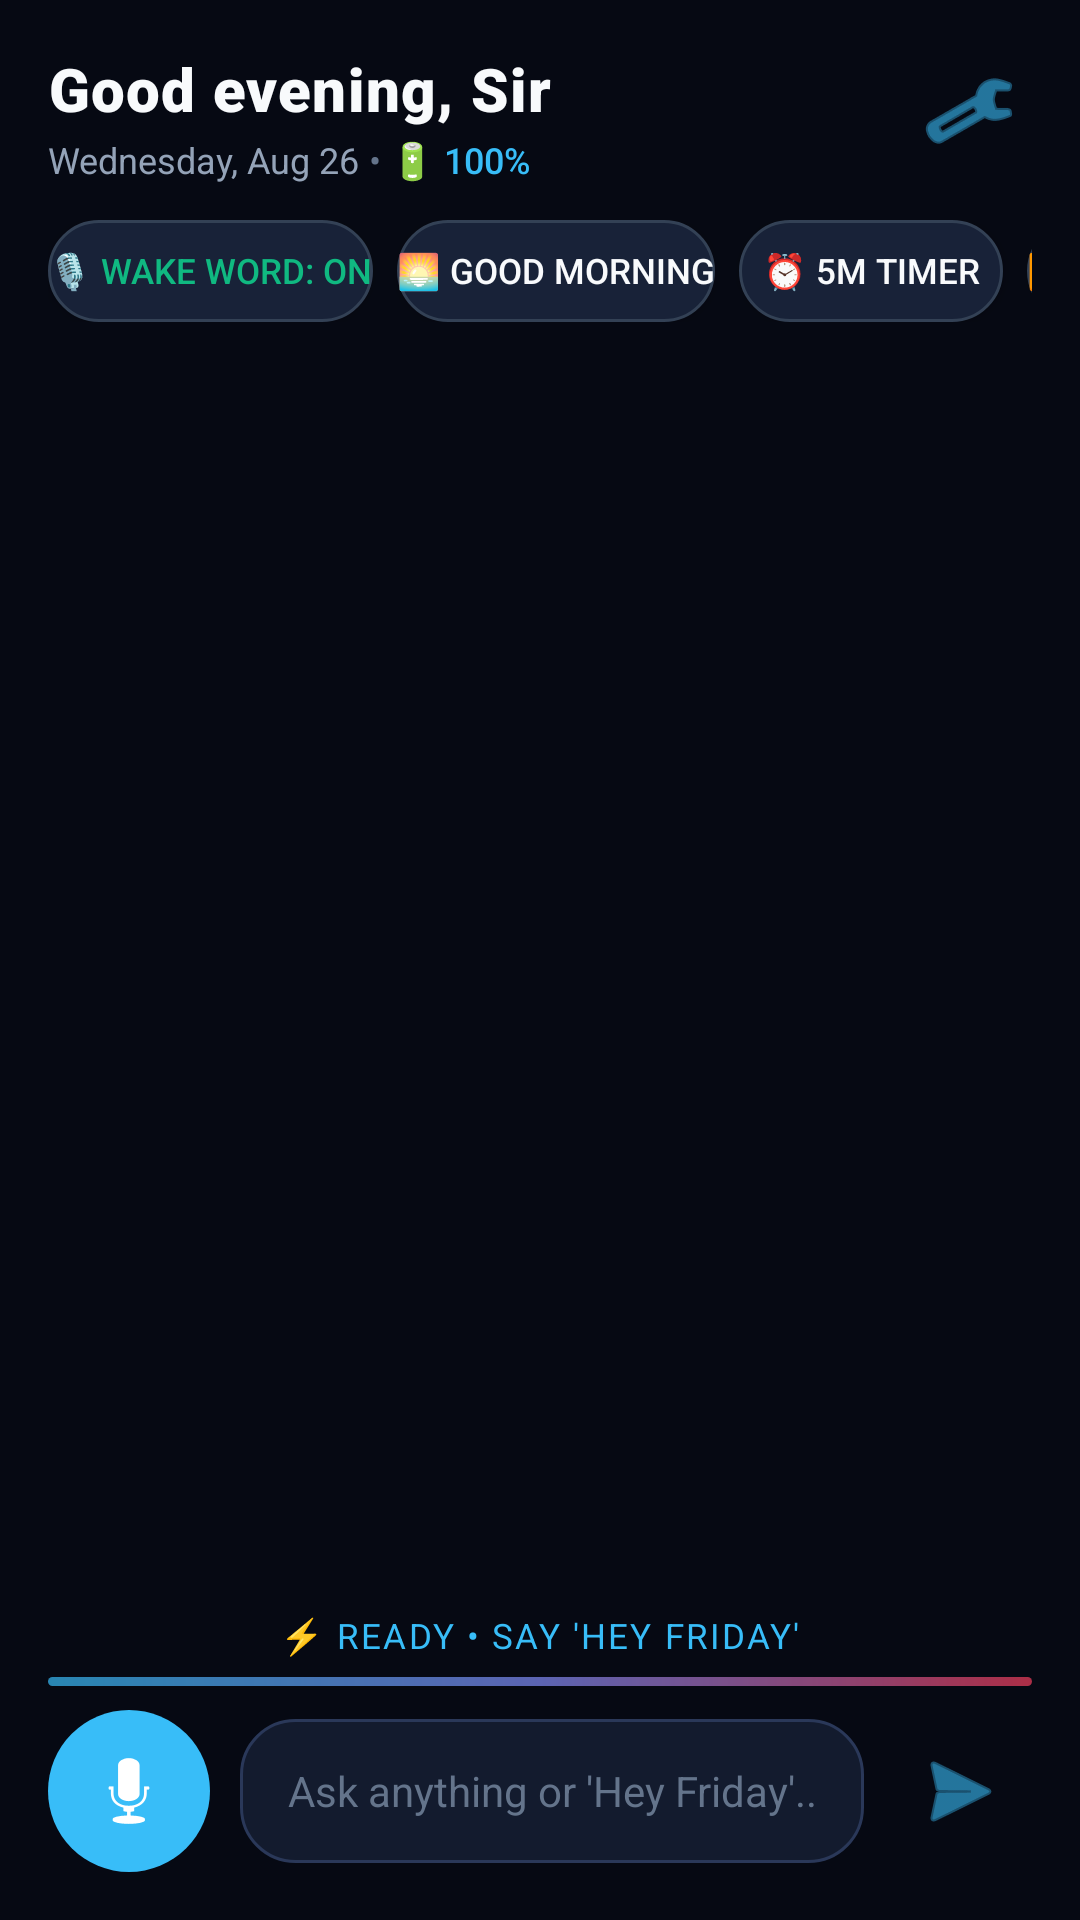

Named icons in this screenshot (1080 × 1920) and their centers, (x=x, y=y):
Send: (x=961, y=1791)
Settings: (x=969, y=111)
Voice: (x=129, y=1791)
